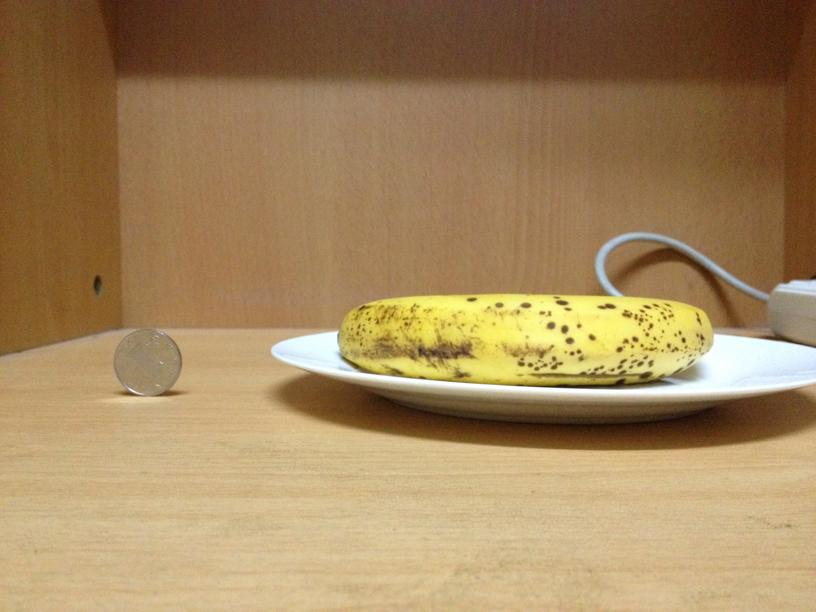banana: (338, 296, 713, 387)
coin: (114, 328, 182, 395)
